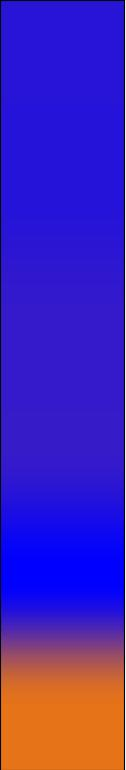critical: (11, 650, 116, 766)
safe: (8, 6, 115, 643)
